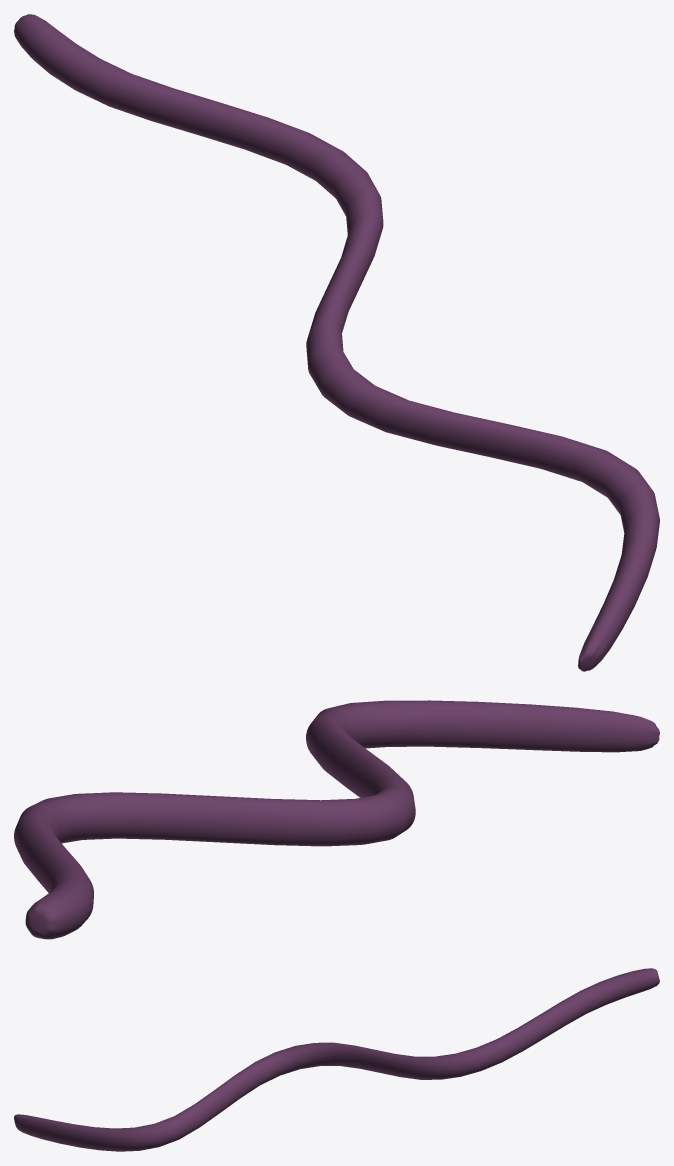
The model's file is frame_39.obj.
3 views of the same model, one above another, from view 1: azimuth 30°, elevation 25°; view 2: azimuth 150°, elevation 25°; view 3: azimuth 270°, elevation 25° (orthographic). The views are drawn at different scales.
Parts seen in each view (by area): view 1: worm2; view 2: worm2; view 3: worm2.
Boxes of the visible parts, box(x1,y1,x2,y2) form: worm2: box(14, 14, 659, 671); worm2: box(14, 700, 659, 939); worm2: box(14, 968, 659, 1151).
Bounding box in the file's own units: 368 × 460 × 1735.
